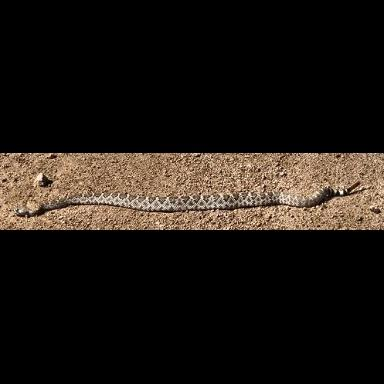snake: (39, 189, 347, 214)
